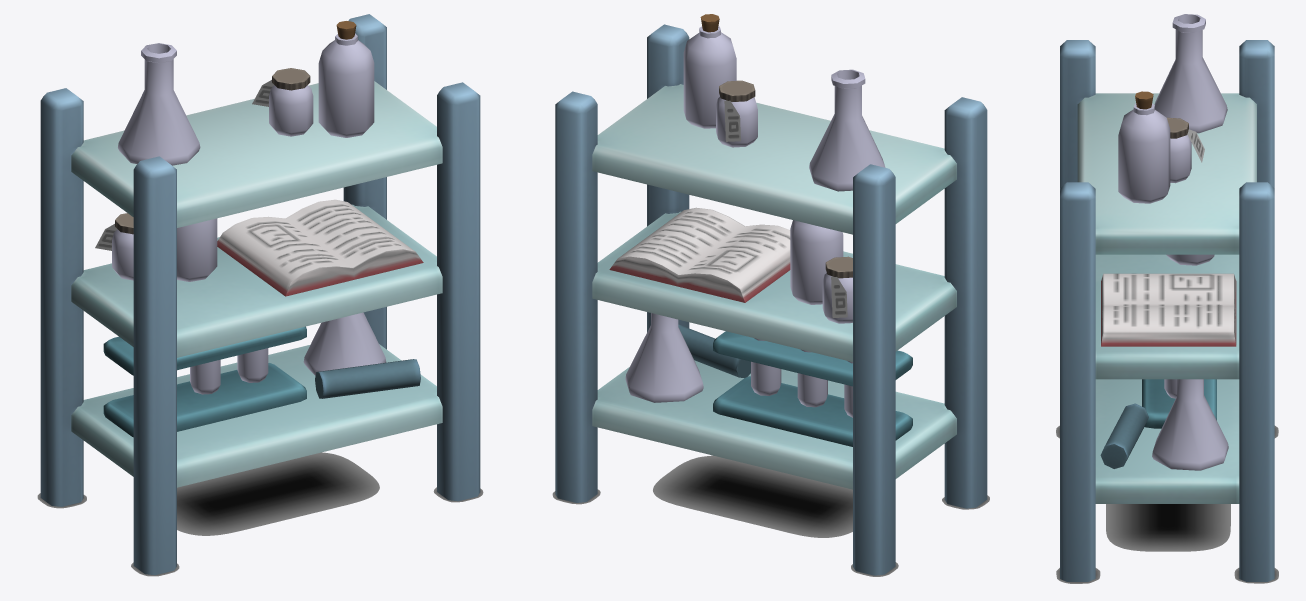
The model's file is ScienceLab_Item_Programs.FBX.
The picture shows the model from 3 angles, left to right: view 1: azimuth 30°, elevation 25°; view 2: azimuth 150°, elevation 25°; view 3: azimuth 270°, elevation 25°; orthographic projection. The views are drawn at different scales.
Visible parts, largest first — view 1: ScienceLab_Item_Programs, ScienceLab_Shadow_Programs; view 2: ScienceLab_Item_Programs, ScienceLab_Shadow_Programs; view 3: ScienceLab_Item_Programs, ScienceLab_Shadow_Programs.
Part boxes in pixels (x1,y1,x2,y2): ScienceLab_Item_Programs: [40, 14, 480, 575]; ScienceLab_Shadow_Programs: [37, 452, 483, 576]; ScienceLab_Item_Programs: [555, 14, 987, 575]; ScienceLab_Shadow_Programs: [552, 455, 989, 576]; ScienceLab_Item_Programs: [1060, 14, 1274, 581]; ScienceLab_Shadow_Programs: [1056, 425, 1278, 583].
Size of the model in its own units: 1.68 by 2.06 by 1.05.
